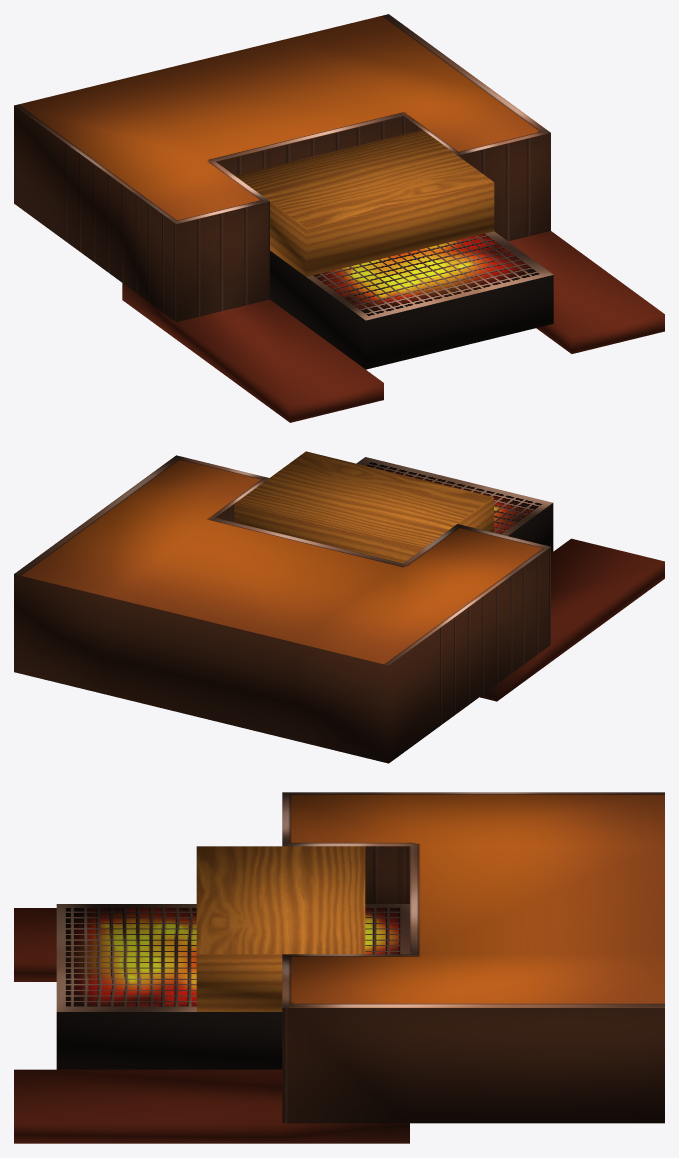
File: 130903_stage 1.fbx
The picture shows the model from 3 angles, top to bottom: view 1: azimuth 30°, elevation 25°; view 2: azimuth 150°, elevation 25°; view 3: azimuth 270°, elevation 25°; orthographic projection. The views are drawn at different scales.
Parts seen in each view (by area): view 1: kabe, dai, push; view 2: kabe, push, dai; view 3: kabe, dai, push.
Part boxes in pixels (x1,y1,x2,y2): kabe: [14, 14, 664, 422]; dai: [270, 231, 553, 369]; push: [235, 130, 494, 276]; kabe: [14, 455, 664, 763]; push: [234, 451, 493, 563]; dai: [356, 457, 553, 552]; kabe: [14, 792, 664, 1143]; dai: [56, 904, 409, 1069]; push: [196, 846, 365, 1011].
Bounding box in the file's own units: 22.8 × 6.7 × 29.1.
